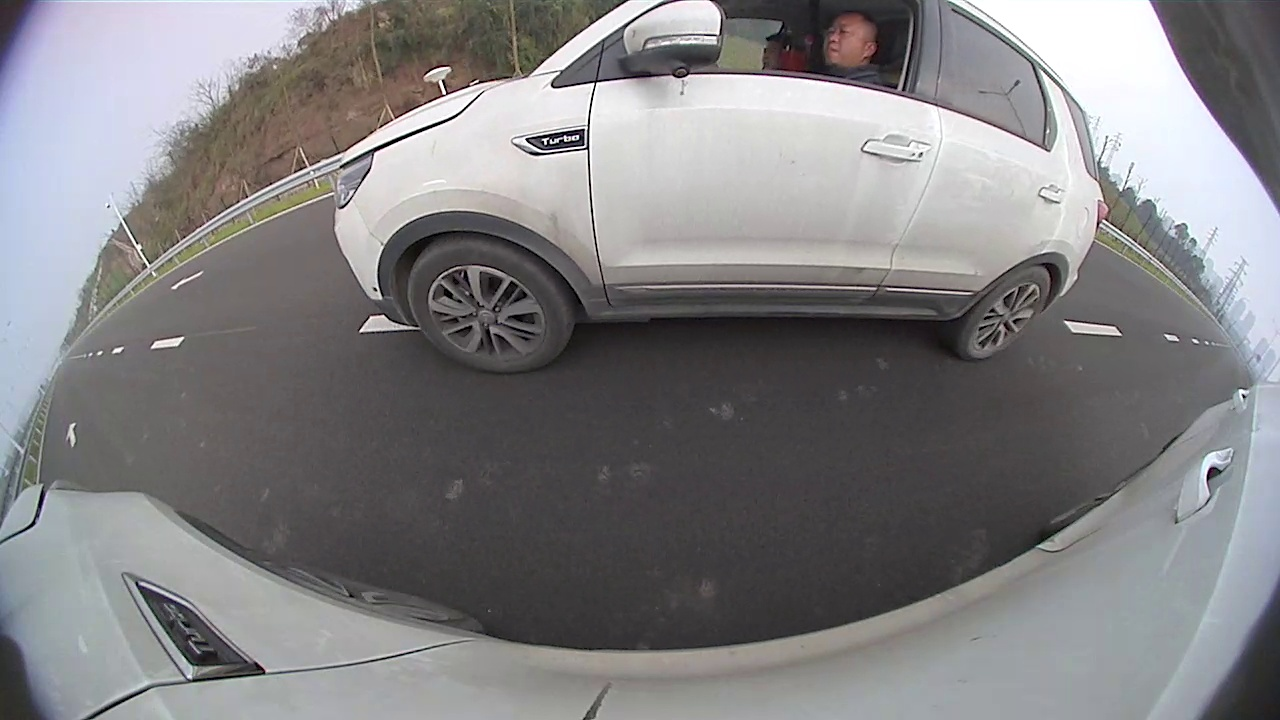car: (333, 1, 1109, 375)
front: (408, 244, 570, 371)
rear: (956, 265, 1051, 360)
